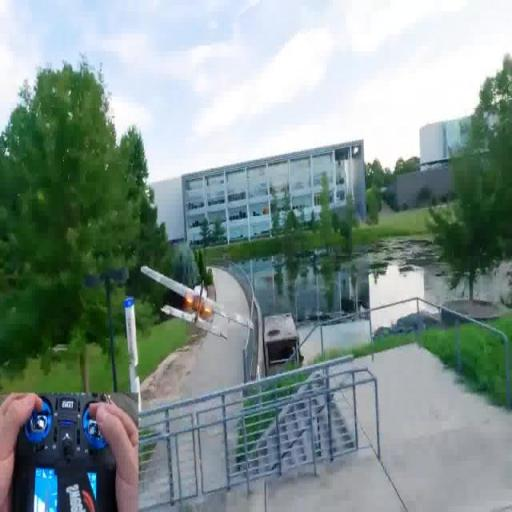uav: (138, 254, 256, 350)
